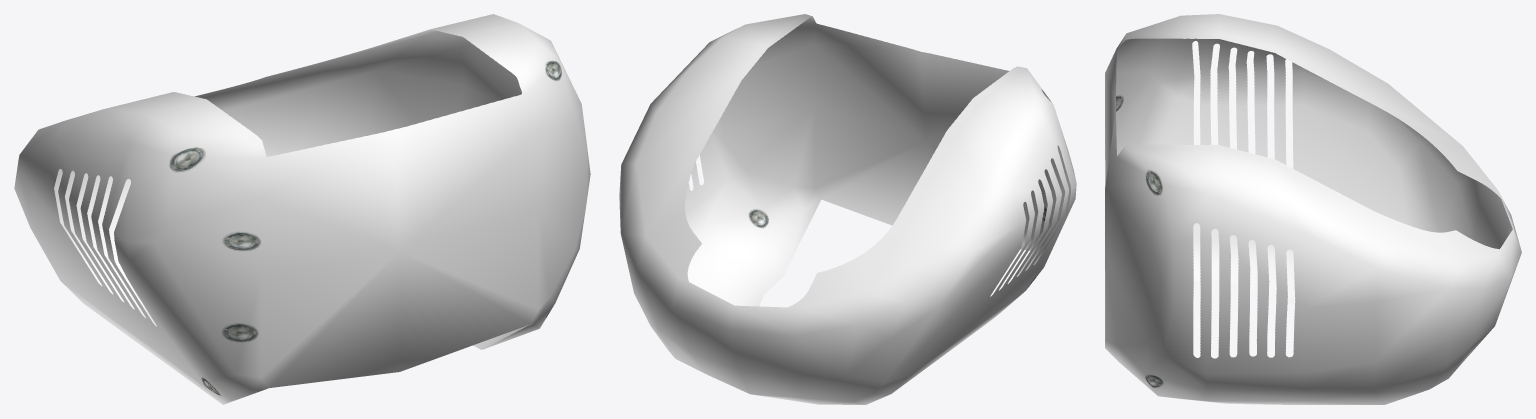
Rendered from lj2_left_texture.obj.
3 views of the same model, side by side, from view 1: azimuth 30°, elevation 25°; view 2: azimuth 150°, elevation 25°; view 3: azimuth 270°, elevation 25° (orthographic). The views are drawn at different scales.
Size of the model in its own units: 0.2392 by 0.1486 by 0.2141.
1 material, 1 textured.
